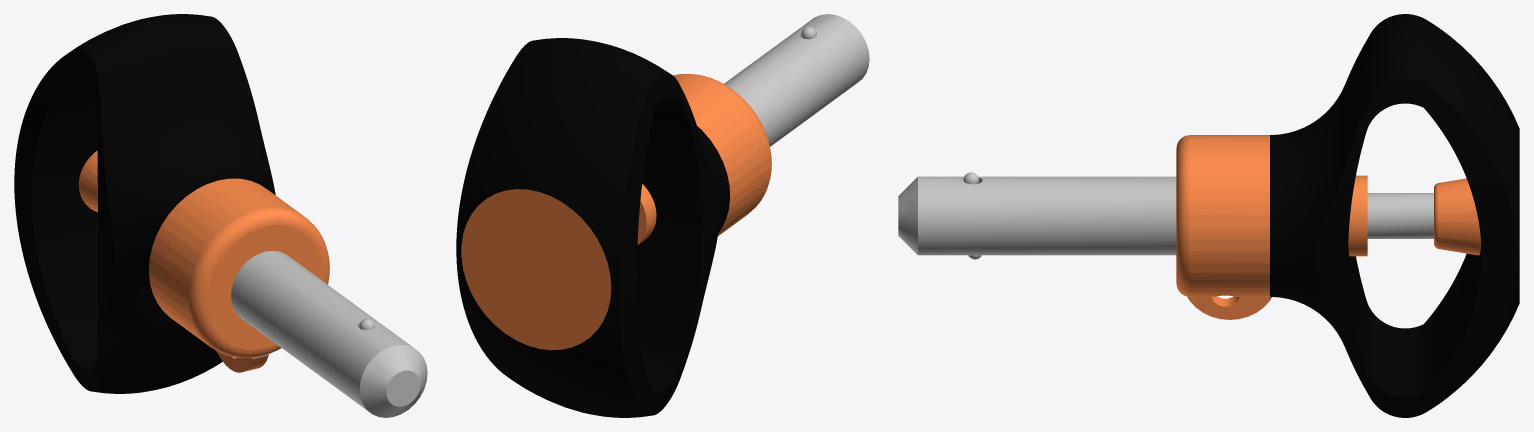
The model's file is export_convert_323248_151.glb.
3 views of the same model, side by side, from view 1: azimuth 30°, elevation 25°; view 2: azimuth 150°, elevation 25°; view 3: azimuth 270°, elevation 25° (orthographic).
Visible parts, largest first — view 1: _IPTH8-20; view 2: _IPTH8-20; view 3: _IPTH8-20.
Part boxes in pixels (left/top/right/bottom): _IPTH8-20: left=14, top=14, right=427, bottom=417; _IPTH8-20: left=456, top=14, right=869, bottom=417; _IPTH8-20: left=898, top=14, right=1519, bottom=417.
Size of the model in its own units: 19.2 by 40.95 by 63.
